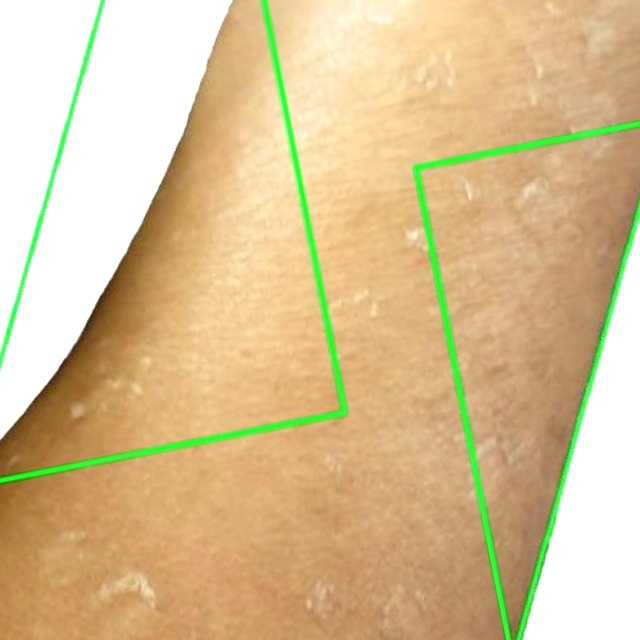Tinea Corporis: (15, 0, 610, 639), (0, 0, 345, 480), (415, 123, 639, 639)
